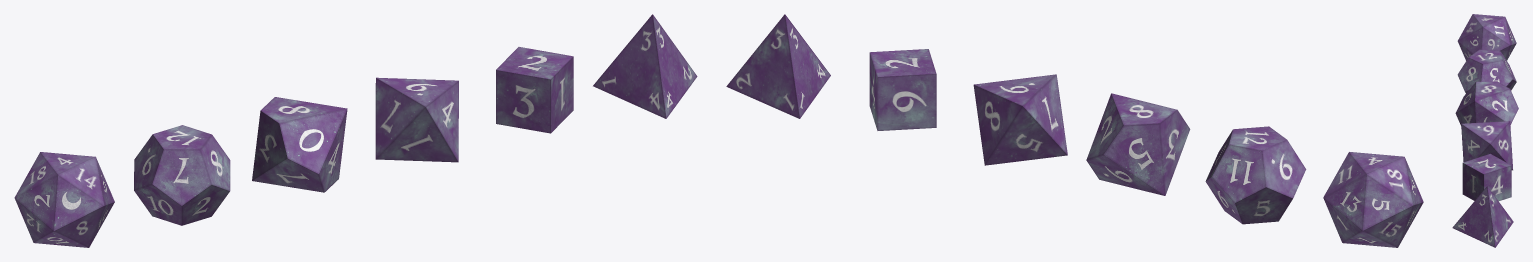
Rendered from dices_purple.glb.
3 views of the same model, side by side, from view 1: azimuth 30°, elevation 25°; view 2: azimuth 150°, elevation 25°; view 3: azimuth 270°, elevation 25° (orthographic). The views are drawn at different scales.
Parts seen in each view (by area): view 1: d12, d10, d20, d8, d6, d4; view 2: d10, d20, d12, d8, d4, d6; view 3: d10, d4, d6, d20, d8, d12.
Boxes of the visible parts, box(x1,y1,x2,y2) form: d12: box(134, 125, 230, 225); d10: box(252, 97, 347, 192); d20: box(14, 152, 114, 247); d8: box(375, 77, 458, 162); d6: box(496, 47, 573, 133); d4: box(593, 14, 697, 118); d10: box(1086, 93, 1190, 195); d20: box(1323, 152, 1423, 247); d12: box(1205, 126, 1306, 224); d8: box(973, 74, 1067, 165); d4: box(726, 14, 830, 118); d6: box(869, 49, 936, 130); d10: box(1455, 81, 1518, 125); d4: box(1452, 186, 1513, 247); d6: box(1462, 153, 1511, 201); d20: box(1457, 14, 1516, 60); d8: box(1461, 121, 1512, 170); d12: box(1457, 49, 1516, 93).
Bounding box in the file's own units: 9.32 × 1.09 × 1.34.
1 material, 1 textured.
